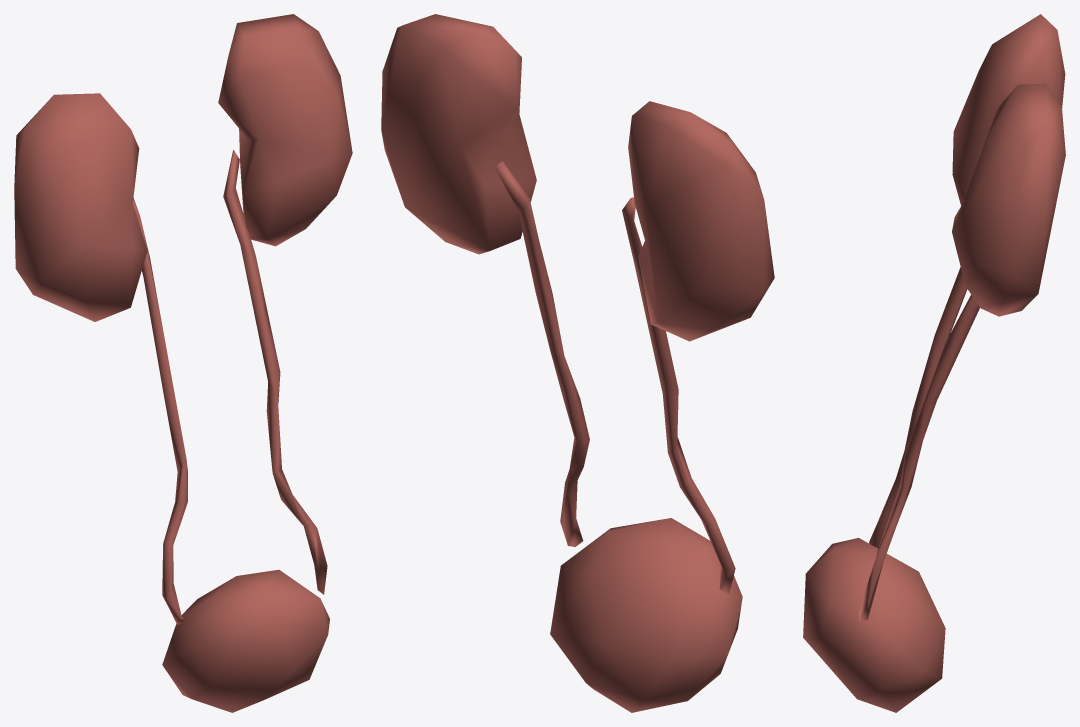
Rendered from pediatric_child_10y_female.urinary.LOD3.glb.
The picture shows the model from 3 angles, left to right: view 1: azimuth 30°, elevation 25°; view 2: azimuth 150°, elevation 25°; view 3: azimuth 270°, elevation 25°; orthographic projection. The views are drawn at different scales.
Visible parts, largest first — view 1: PEDIATRIC.CHILD_10Y.FEMALE.URINARY.KIDNEY_CORTEX.R, PEDIATRIC.CHILD_10Y.FEMALE.URINARY.KIDNEY_CORTEX.L, PEDIATRIC.CHILD_10Y.FEMALE.URINARY.URINARY_BLADDER_WALL, PEDIATRIC.CHILD_10Y.FEMALE.URINARY.URETER.L, PEDIATRIC.CHILD_10Y.FEMALE.URINARY.URETER.R; view 2: PEDIATRIC.CHILD_10Y.FEMALE.URINARY.KIDNEY_CORTEX.L, PEDIATRIC.CHILD_10Y.FEMALE.URINARY.URINARY_BLADDER_WALL, PEDIATRIC.CHILD_10Y.FEMALE.URINARY.KIDNEY_CORTEX.R, PEDIATRIC.CHILD_10Y.FEMALE.URINARY.URETER.L, PEDIATRIC.CHILD_10Y.FEMALE.URINARY.URETER.R; view 3: PEDIATRIC.CHILD_10Y.FEMALE.URINARY.KIDNEY_CORTEX.L, PEDIATRIC.CHILD_10Y.FEMALE.URINARY.URINARY_BLADDER_WALL, PEDIATRIC.CHILD_10Y.FEMALE.URINARY.KIDNEY_CORTEX.R, PEDIATRIC.CHILD_10Y.FEMALE.URINARY.URETER.L, PEDIATRIC.CHILD_10Y.FEMALE.URINARY.URETER.R.
Boxes of the visible parts, box(x1,y1,x2,y2) form: PEDIATRIC.CHILD_10Y.FEMALE.URINARY.KIDNEY_CORTEX.R: box(14, 93, 147, 321); PEDIATRIC.CHILD_10Y.FEMALE.URINARY.KIDNEY_CORTEX.L: box(218, 14, 352, 246); PEDIATRIC.CHILD_10Y.FEMALE.URINARY.URINARY_BLADDER_WALL: box(162, 569, 329, 712); PEDIATRIC.CHILD_10Y.FEMALE.URINARY.URETER.L: box(223, 150, 327, 594); PEDIATRIC.CHILD_10Y.FEMALE.URINARY.URETER.R: box(132, 197, 187, 624); PEDIATRIC.CHILD_10Y.FEMALE.URINARY.KIDNEY_CORTEX.L: box(381, 14, 536, 254); PEDIATRIC.CHILD_10Y.FEMALE.URINARY.URINARY_BLADDER_WALL: box(550, 518, 742, 712); PEDIATRIC.CHILD_10Y.FEMALE.URINARY.KIDNEY_CORTEX.R: box(628, 101, 774, 341); PEDIATRIC.CHILD_10Y.FEMALE.URINARY.URETER.L: box(494, 161, 589, 546); PEDIATRIC.CHILD_10Y.FEMALE.URINARY.URETER.R: box(622, 197, 735, 593); PEDIATRIC.CHILD_10Y.FEMALE.URINARY.KIDNEY_CORTEX.L: box(952, 83, 1065, 316); PEDIATRIC.CHILD_10Y.FEMALE.URINARY.URINARY_BLADDER_WALL: box(803, 538, 945, 712); PEDIATRIC.CHILD_10Y.FEMALE.URINARY.KIDNEY_CORTEX.R: box(952, 14, 1065, 205); PEDIATRIC.CHILD_10Y.FEMALE.URINARY.URETER.L: box(858, 295, 979, 621); PEDIATRIC.CHILD_10Y.FEMALE.URINARY.URETER.R: box(869, 267, 967, 548).
Size of the model in its own units: 0.1562 by 0.2779 by 0.1021.
